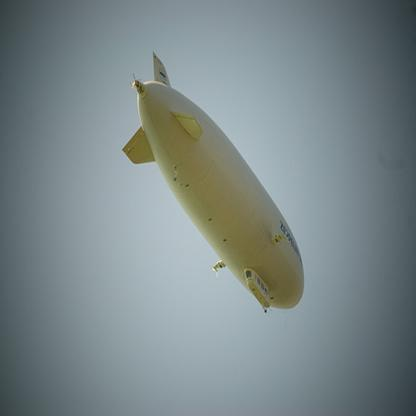Airship: (117, 49, 313, 317)
